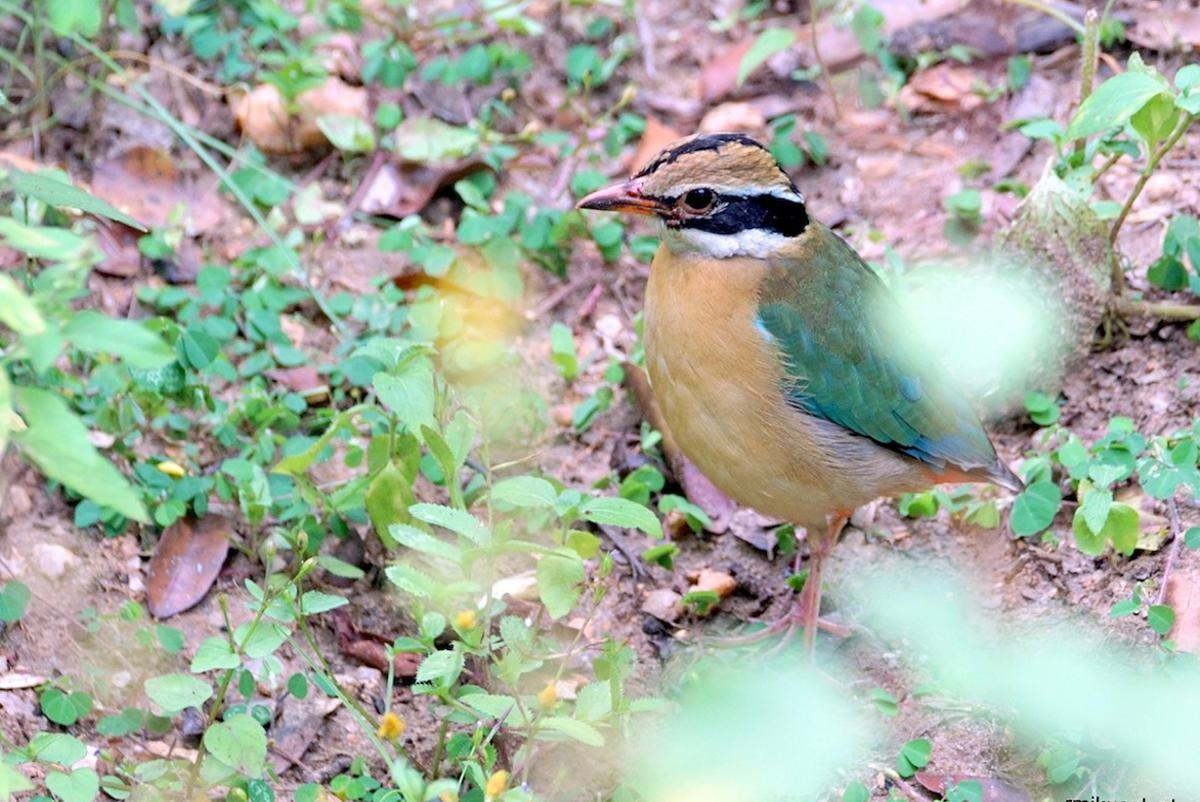pitta: (536, 116, 980, 643)
